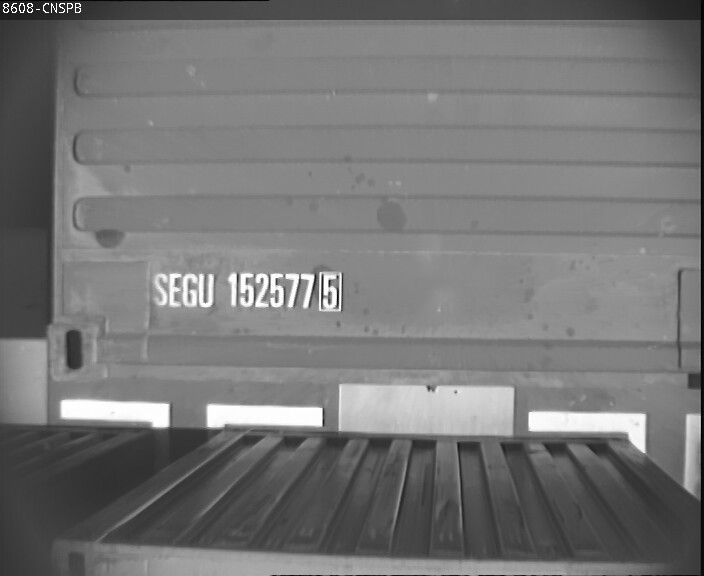groundmarker_1: (60, 400, 322, 469)
